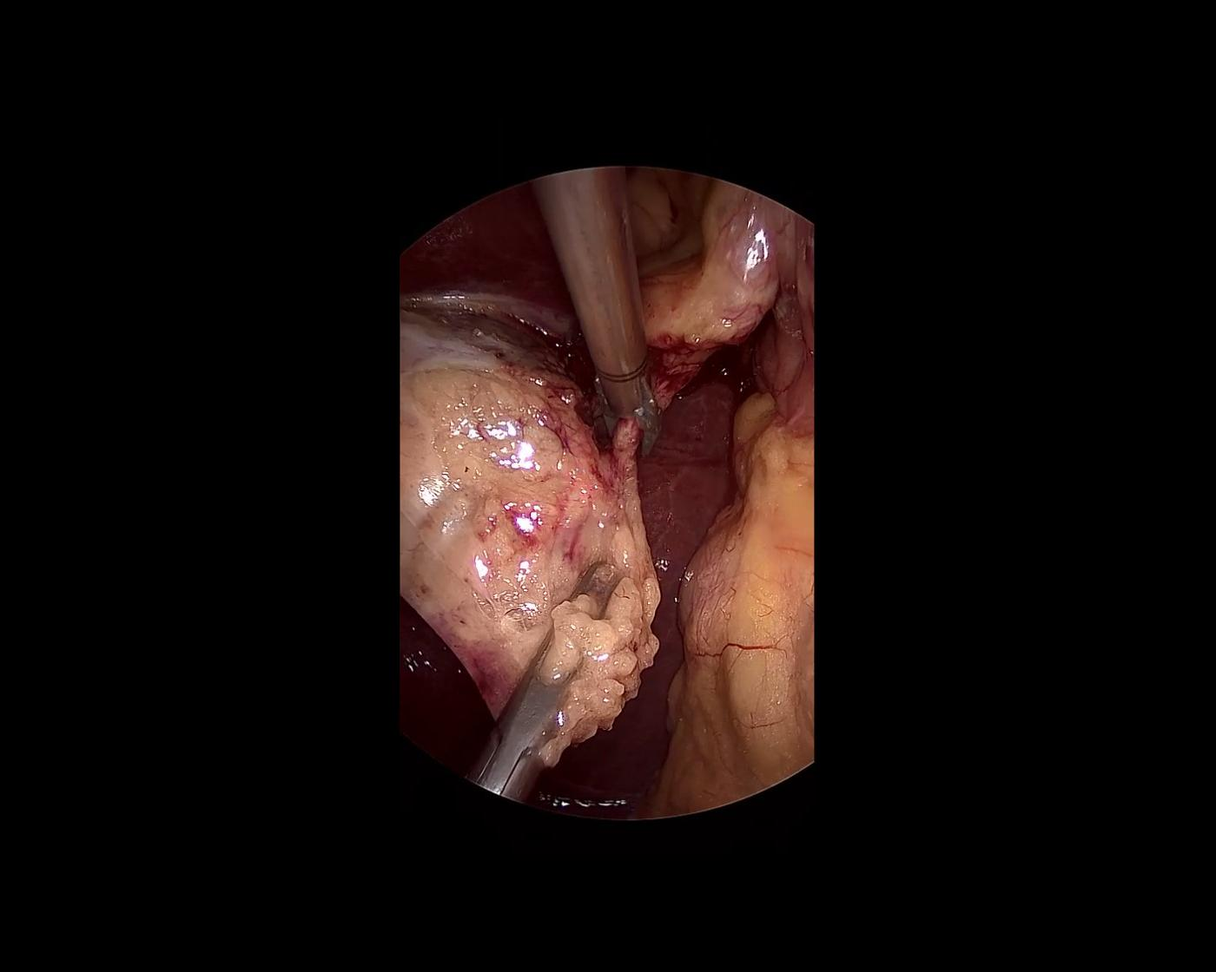Forceps: (463, 542, 644, 806)
Gallbladder: (293, 251, 718, 788)
Liver: (531, 372, 777, 831), (381, 187, 594, 434)
